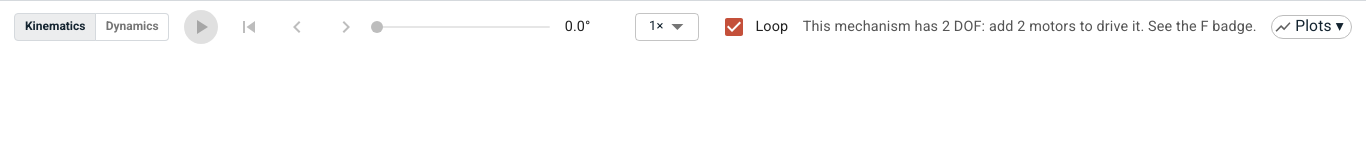
Transport: dynamics analysis › explains why a document cannot run
The width and height of the screenshot is (1366, 160).
Click the button "Dynamics".
click(132, 27)  # box [95,13,169,41]
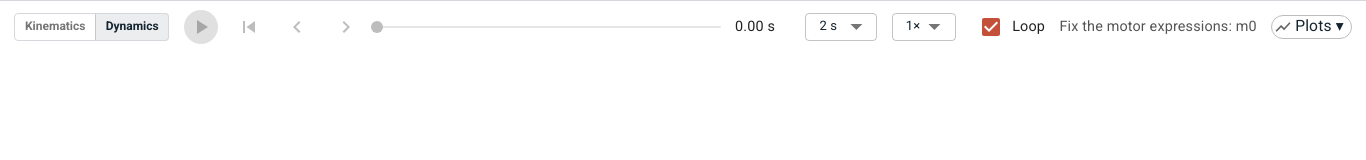
Expected: the button named "Play" is disabled, [184,10,218,44]
Expected: the text "Fix the motor expressions: m0" is shown, [1060,15,1257,39]
